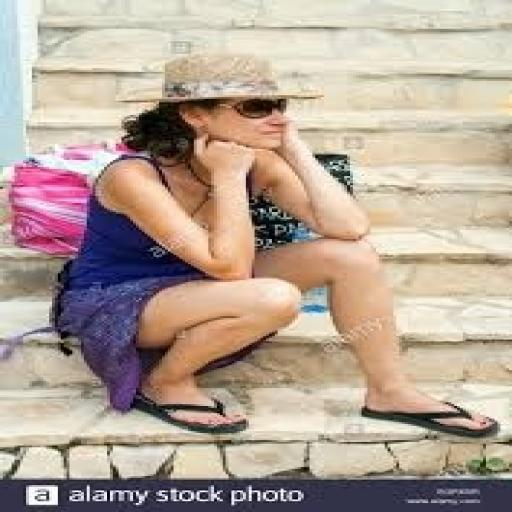sitting: (52, 50, 500, 438)
